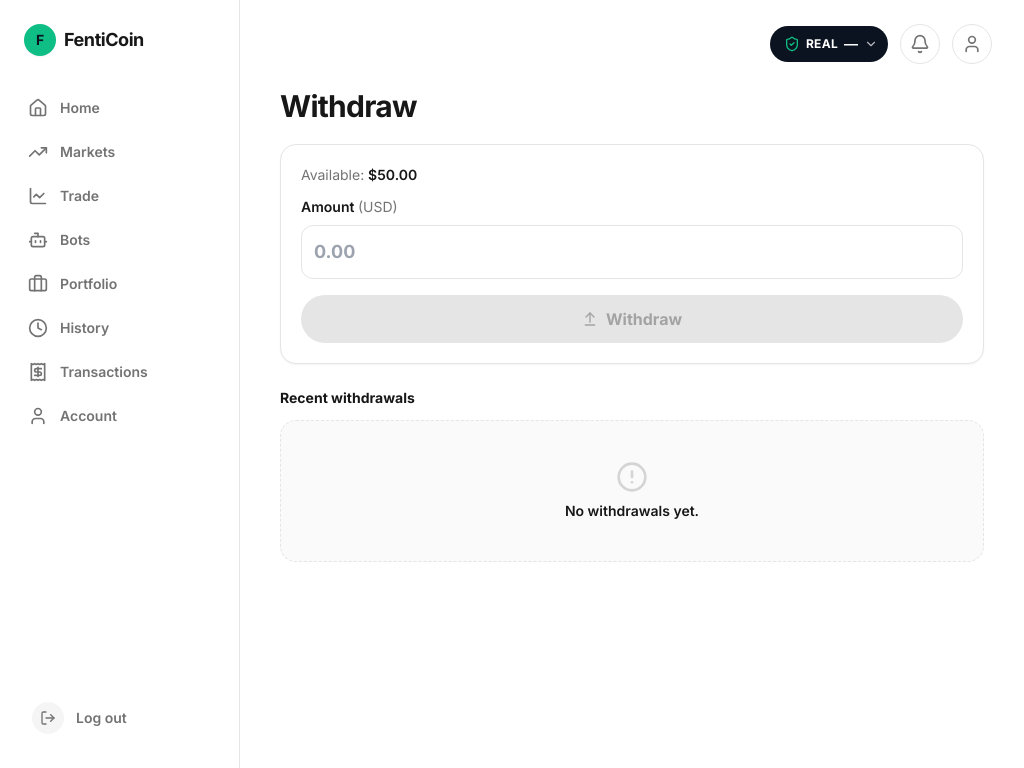
Test case: WithdrawPage › blocks submission when the requested amount exceeds the available balance
The image size is (1024, 768).
Check: the text "$50.00" is shown, box [368,166,417,183]
Type "100" into the field with placeholder "0.00". click: coordinates (632, 252)
box: [301,225,963,279]
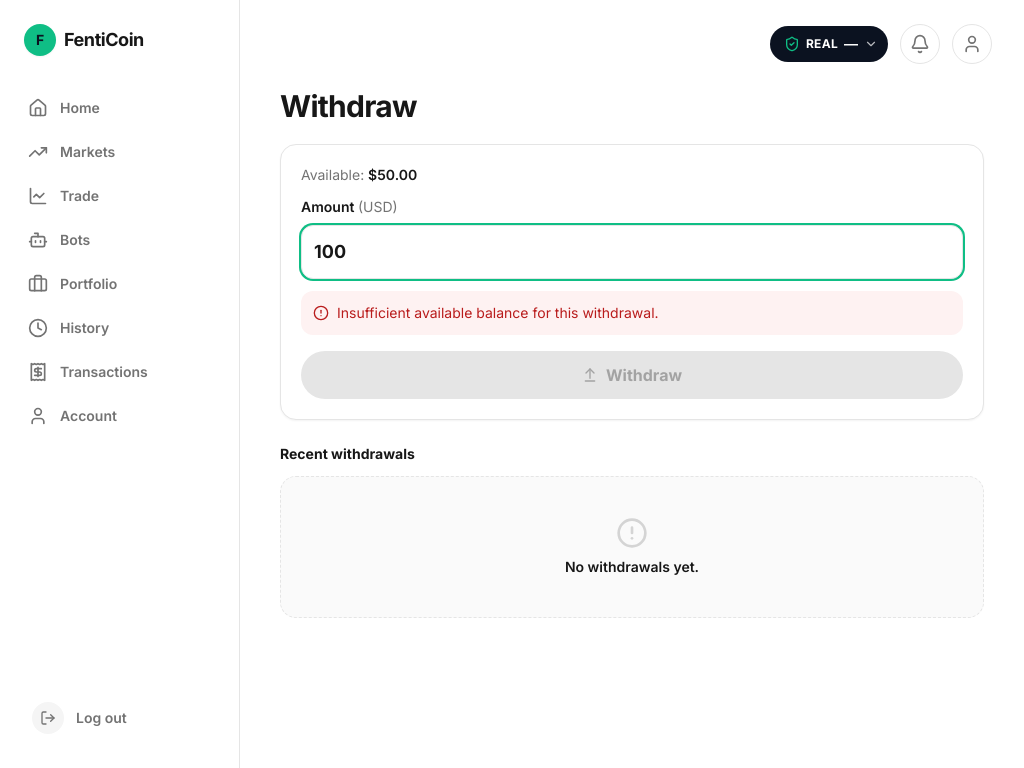
Check: the button "Withdraw" is disabled, box [301,351,963,399]
Check: the text "Insufficient available balance for this withdrawal." is shown, box [301,291,963,335]
